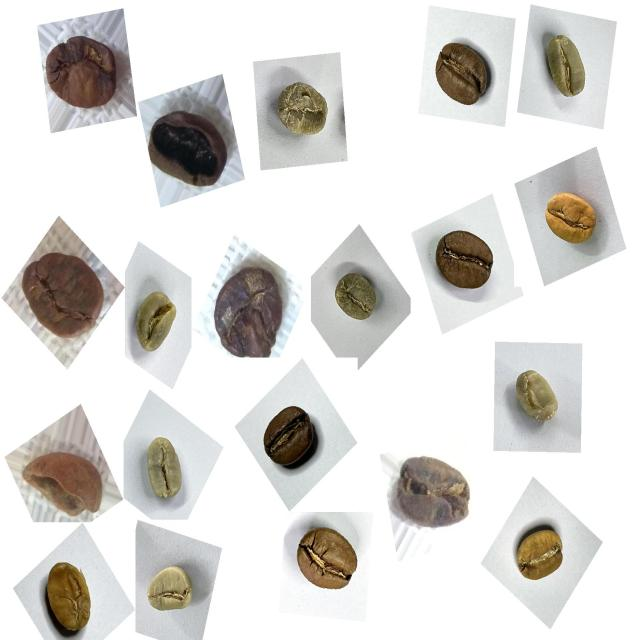bad: (206, 249, 297, 367), (17, 235, 108, 351), (35, 20, 128, 126), (146, 93, 236, 199), (387, 443, 475, 540), (24, 441, 109, 527)
dark: (254, 392, 326, 480)
green: (531, 22, 601, 112), (266, 69, 339, 153), (499, 357, 568, 438), (132, 427, 195, 512), (127, 276, 186, 363), (138, 554, 202, 628), (325, 262, 385, 331)
light: (531, 174, 607, 260), (34, 549, 108, 637), (504, 514, 577, 598)
medium: (423, 216, 505, 304), (287, 519, 367, 607), (423, 33, 498, 120)
